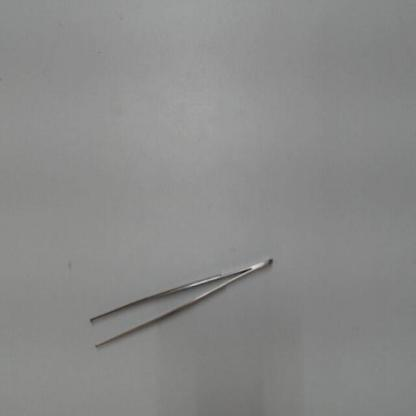Gillies Toothed Dissector: (80, 249, 286, 358)
